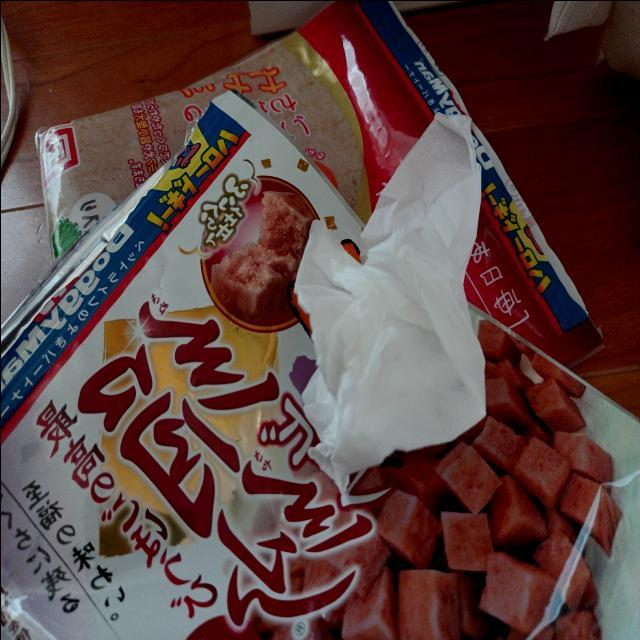Paper: (307, 103, 481, 469)
